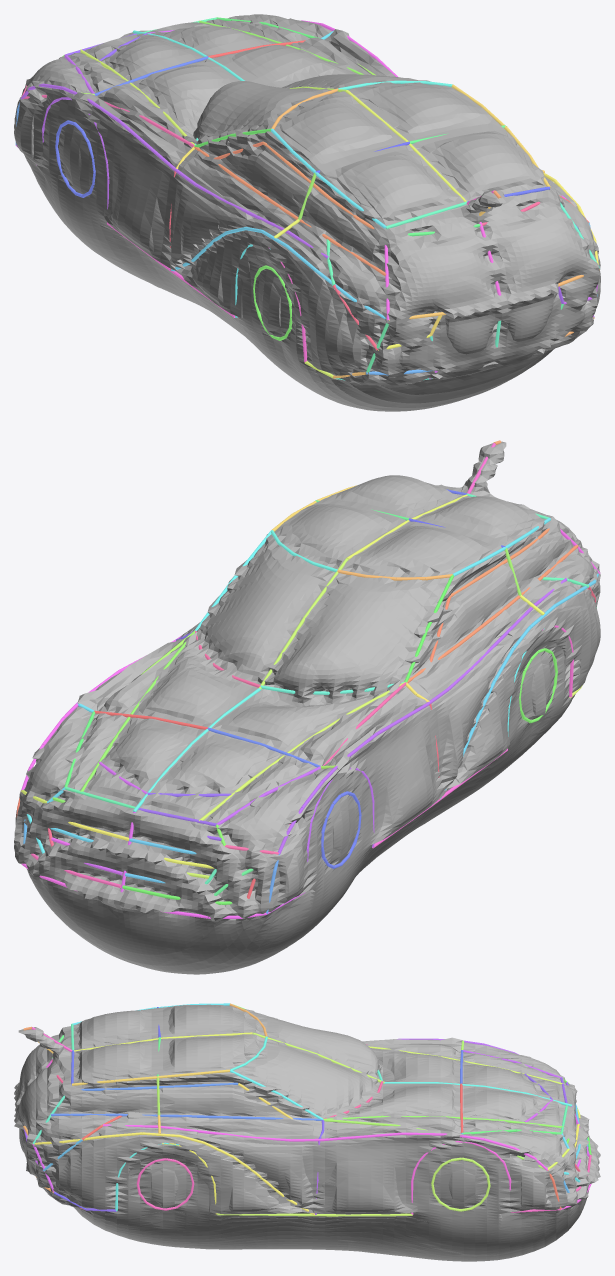
Rendered from ils_car4.gltf.
3 renders of one model, top to bottom at view 1: azimuth 30°, elevation 25°; view 2: azimuth 150°, elevation 25°; view 3: azimuth 270°, elevation 25°, orthographic. The views are drawn at different scales.
Size of the model in its own units: 0.3925 by 0.3619 by 0.9205.
